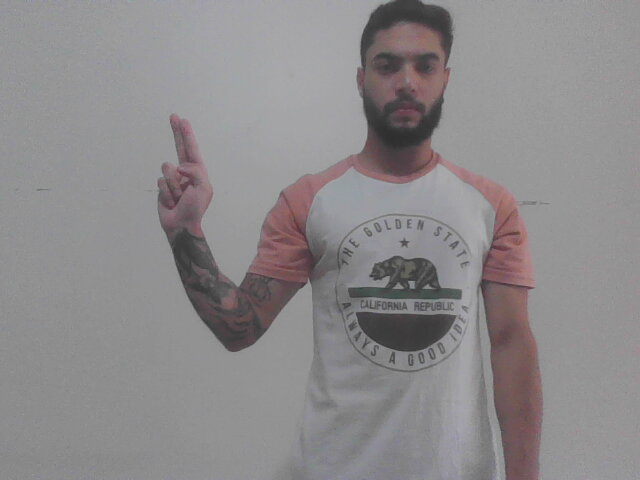u: (148, 109, 216, 237)
